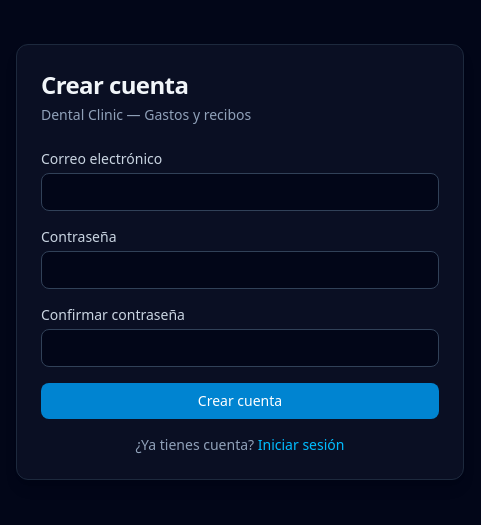
RegisterPage › R6: registro sin sesión muestra aviso de correo
Expected: the heading "Crear cuenta" is shown, [41,68,188,101]
Type "new@test.com" into the field labelled "Correo electrónico". click: (240, 192)
box: [41,173,439,211]
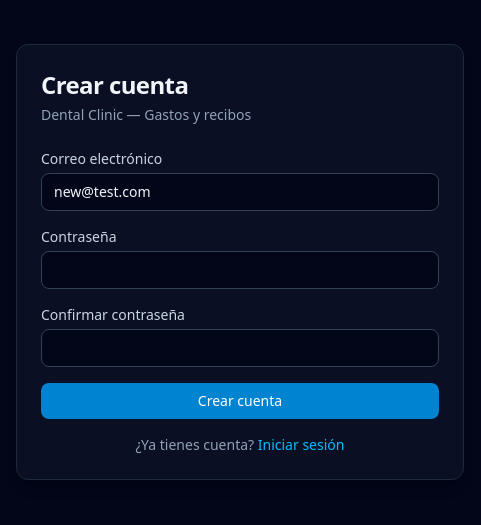
Type "okpass1" into the password field labelled "Contraseña". click: (240, 270)
box: [41,251,439,289]
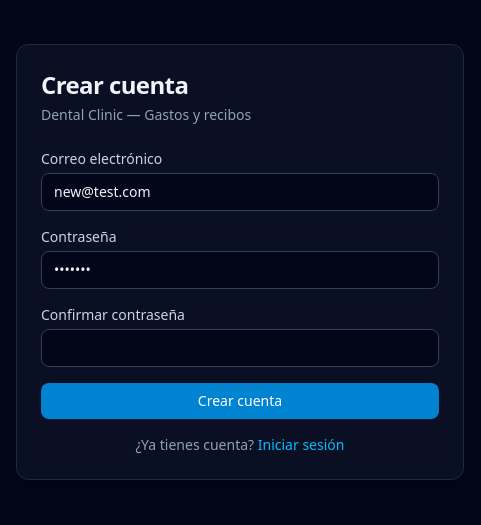
Type "okpass1" into the password field labelled "Confirmar contraseña". click: (240, 348)
box: [41,329,439,367]
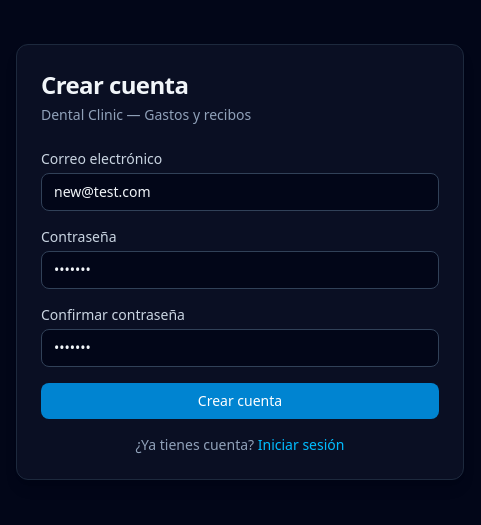
Click the button with test id "register-submit". click: (240, 401)
box: [41,383,439,419]
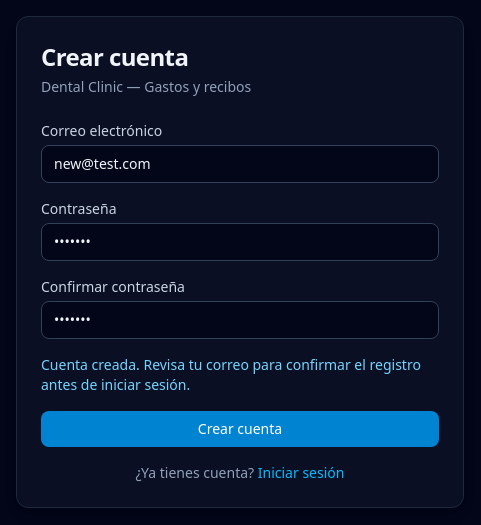
Result: the text "Revisa tu correo" is shown at [41,355,421,394]
